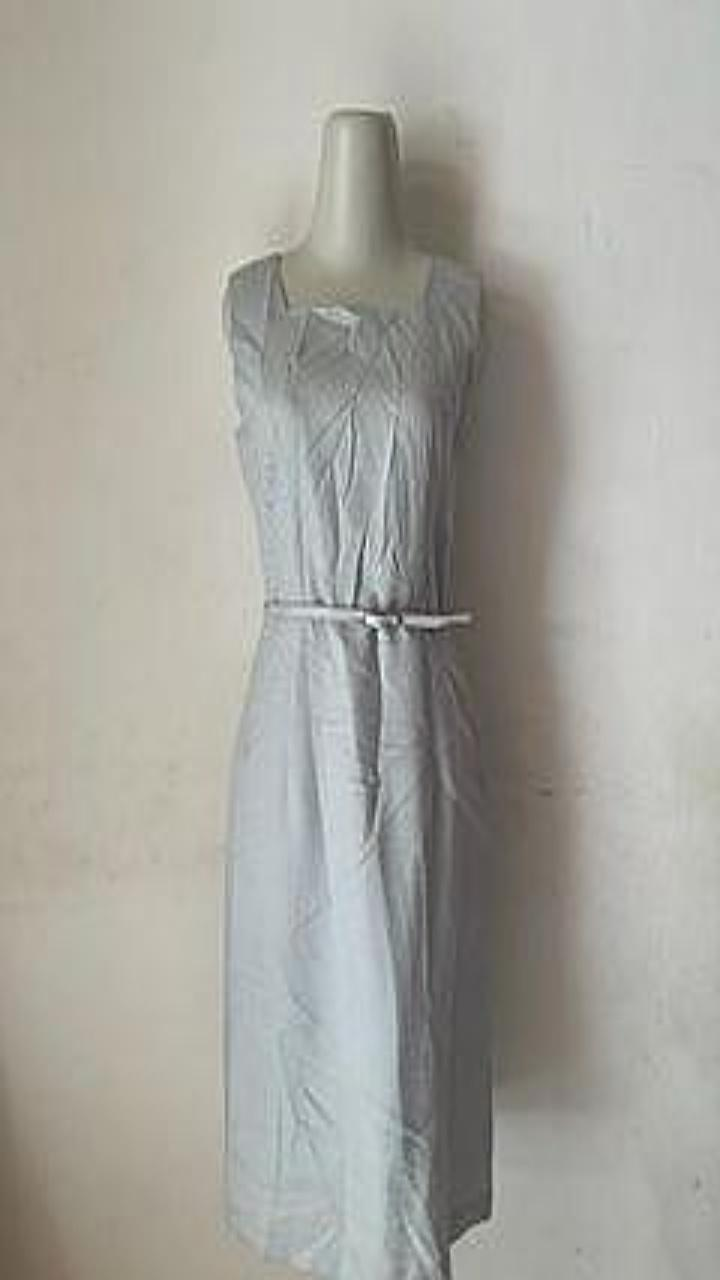Dresses: (223, 252, 491, 1279)
